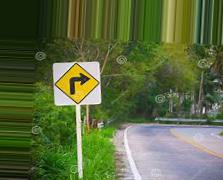right: (51, 61, 101, 107)
